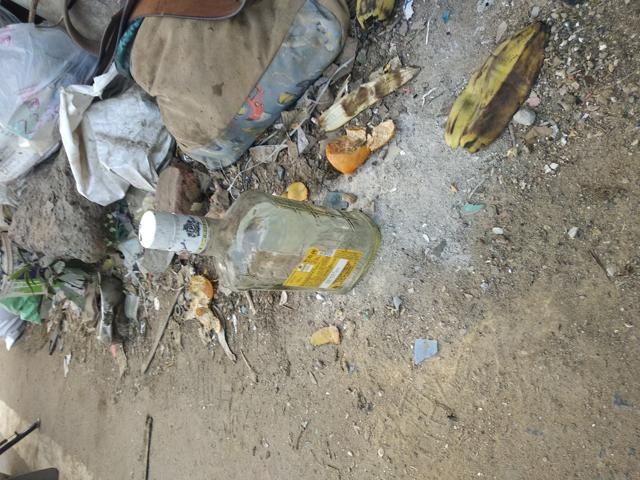botol_kaca: (134, 184, 390, 304)
